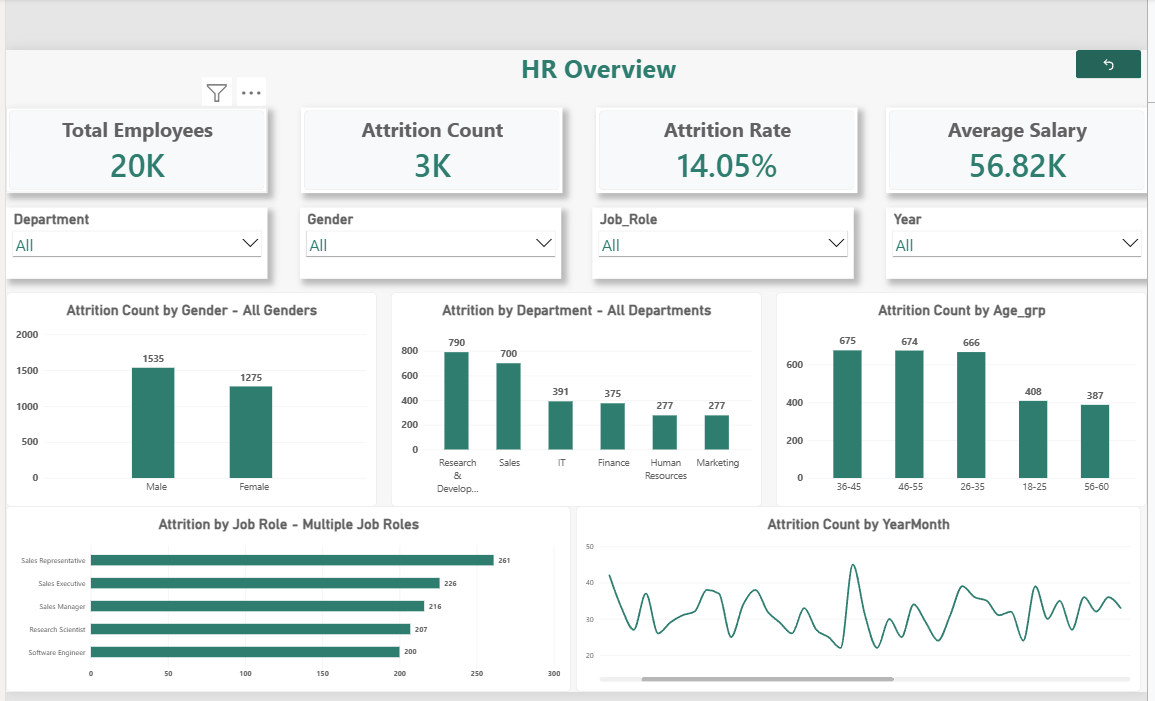

The page's visual inventory and layout, read from the dashboard file:
{"tool":"powerbi","page":{"name":"HR Overview","canvas":[1920,1080],"ordinal":0},"visuals":[{"type":"clusteredColumnChart","fields":{"Category":["DimJob.Department"],"Y":["FactEmployee.Attrition Count"]},"box":[648,408,624,360],"z":0},{"type":"clusteredColumnChart","fields":{"Category":["FactEmployee.Gender"],"Y":["FactEmployee.Attrition Count"]},"box":[0,408,624,360],"z":1000},{"type":"clusteredColumnChart","title":"Attrition Count by Age_grp","fields":{"Category":["FactEmployee.Age_grp"],"Y":["FactEmployee.Attrition Count"]},"box":[1296,408,624,360],"z":2000},{"type":"clusteredBarChart","fields":{"Category":["FactEmployee.Job_Role"],"Y":["FactEmployee.Attrition Count"]},"box":[0,768,950,312],"z":3000},{"type":"lineChart","fields":{"Y":["FactEmployee.Attrition Count"],"Category":["DimDate.YearMonth"]},"box":[960,768,950,312],"z":4000},{"type":"cardVisual","fields":{"Data":["FactEmployee.Average Salary"]},"box":[1480,96,440,144],"z":5000},{"type":"textbox","box":[696,0,432,72],"z":6000},{"type":"slicer","fields":{"Values":["FactEmployee.Department"]},"box":[0,264,440,120],"z":7000},{"type":"slicer","fields":{"Values":["FactEmployee.Gender"]},"box":[493.3,264,440,120],"z":8000},{"type":"slicer","fields":{"Values":["FactEmployee.Job_Role"]},"box":[986.7,264,440,120],"z":9000},{"type":"cardVisual","fields":{"Data":["FactEmployee.Attrition Rate"]},"box":[992,96,440,144],"z":10000},{"type":"cardVisual","fields":{"Data":["FactEmployee.Attrition Count"]},"box":[496,96,440,144],"z":11000},{"type":"cardVisual","fields":{"Data":["FactEmployee.Total Employees"]},"box":[0,96,440,144],"z":12000},{"type":"slicer","fields":{"Values":["DimDate.Year"]},"box":[1480,264,440,120],"z":13000},{"type":"actionButton","box":[1800,0,110,48],"z":14000}]}

Visuals, with their boxes on the page's 1920x1080 design canvas (x1, y1, x2, y2). These are canvas units, not pixel positions in the 1155x701 screenshot, which may show the page scaled, cropped or inside an application window:
clusteredColumnChart - DimJob.Department x FactEmployee.Attrition Count: <bbox>648, 408, 1272, 768</bbox>
clusteredColumnChart - FactEmployee.Gender x FactEmployee.Attrition Count: <bbox>0, 408, 624, 768</bbox>
"Attrition Count by Age_grp" clusteredColumnChart: <bbox>1296, 408, 1920, 768</bbox>
clusteredBarChart - FactEmployee.Job_Role x FactEmployee.Attrition Count: <bbox>0, 768, 950, 1080</bbox>
lineChart - FactEmployee.Attrition Count x DimDate.YearMonth: <bbox>960, 768, 1910, 1080</bbox>
cardVisual - FactEmployee.Average Salary: <bbox>1480, 96, 1920, 240</bbox>
textbox: <bbox>696, 0, 1128, 72</bbox>
slicer - FactEmployee.Department: <bbox>0, 264, 440, 384</bbox>
slicer - FactEmployee.Gender: <bbox>493, 264, 933, 384</bbox>
slicer - FactEmployee.Job_Role: <bbox>987, 264, 1427, 384</bbox>
cardVisual - FactEmployee.Attrition Rate: <bbox>992, 96, 1432, 240</bbox>
cardVisual - FactEmployee.Attrition Count: <bbox>496, 96, 936, 240</bbox>
cardVisual - FactEmployee.Total Employees: <bbox>0, 96, 440, 240</bbox>
slicer - DimDate.Year: <bbox>1480, 264, 1920, 384</bbox>
actionButton: <bbox>1800, 0, 1910, 48</bbox>
